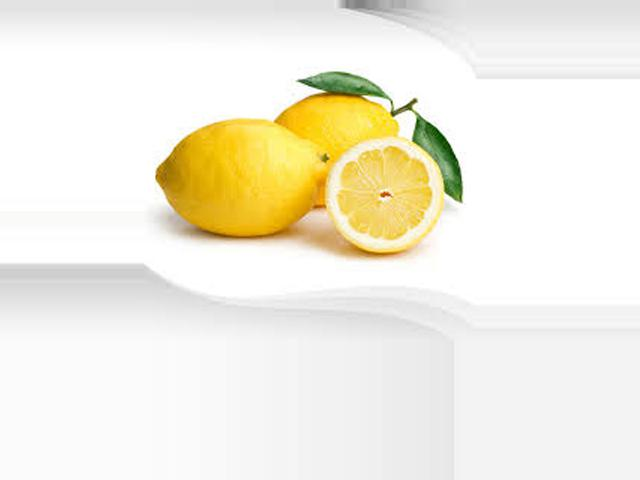lemon: (265, 86, 414, 198)
